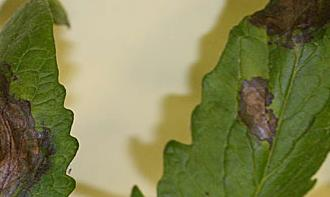Tomato leaf late blight: (134, 0, 330, 197), (0, 0, 77, 197)
